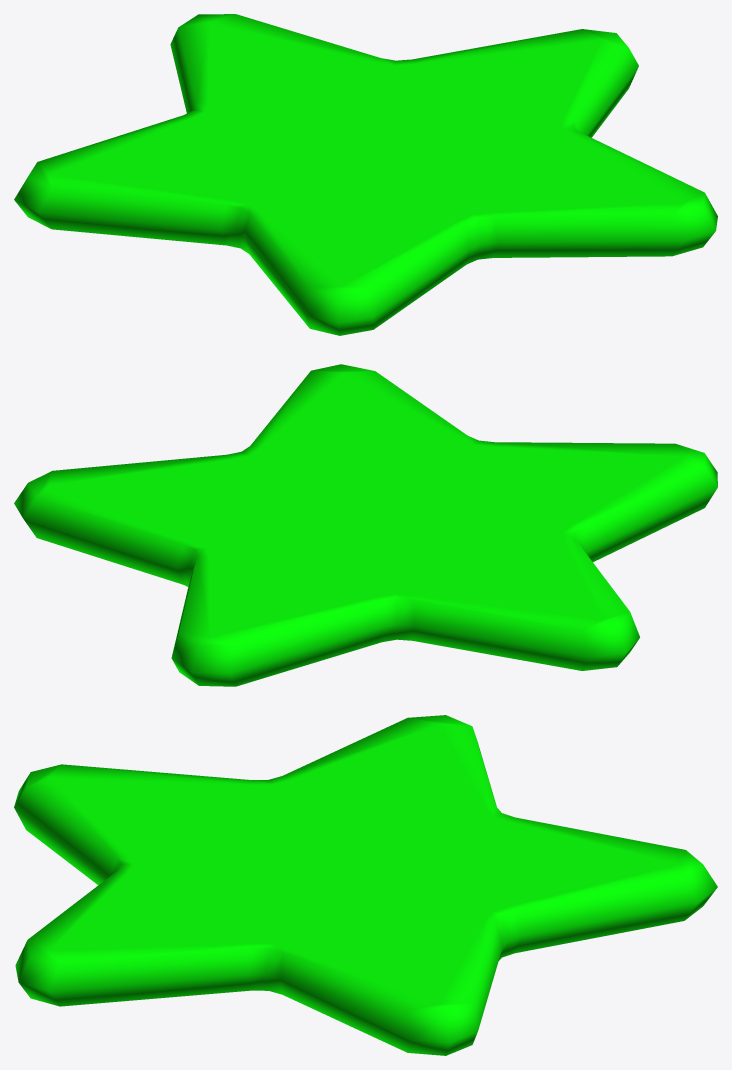
File: Shell_5.fbx
3 renders of one model, top to bottom at view 1: azimuth 30°, elevation 25°; view 2: azimuth 150°, elevation 25°; view 3: azimuth 270°, elevation 25°, orthographic. The views are drawn at different scales.
Parts seen in each view (by area): view 1: Shell_5; view 2: Shell_5; view 3: Shell_5.
Part boxes in pixels (box(x1,y1,x2,y2)): Shell_5: box(14, 14, 717, 335); Shell_5: box(14, 364, 717, 686); Shell_5: box(14, 715, 717, 1055).
Size of the model in its own units: 101 by 6.39 by 96.75.
